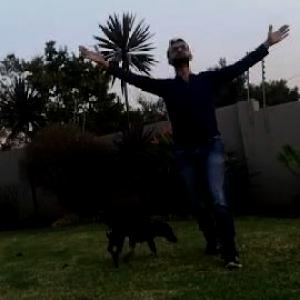takeoff: (104, 42, 284, 248)
